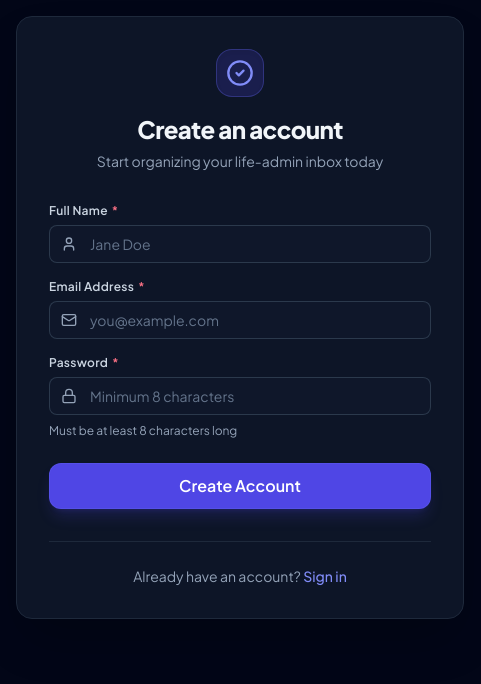
Scenario: Auth Pages › displays validation errors on invalid registration inputs
Click the button "Create Account" at (240, 486), box [49,463,431,509]
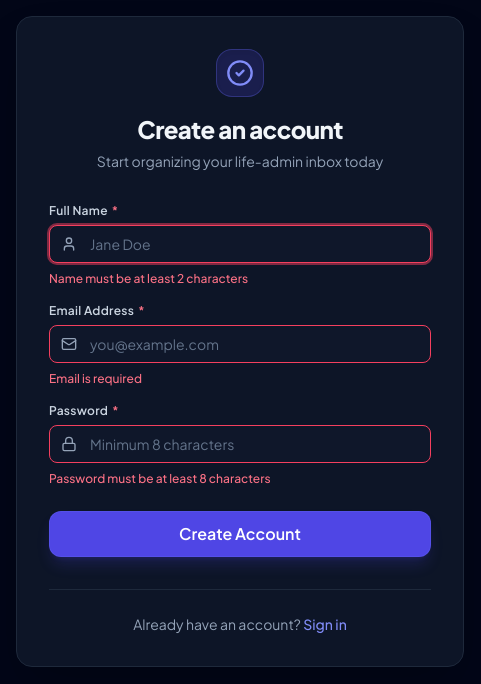
Result: the text "Name must be at least 2 characters" is shown at [49,271,248,286]
Result: the text "Email is required" is shown at [49,371,142,386]
Result: the text "Password must be at least 8 characters" is shown at [49,471,271,486]
